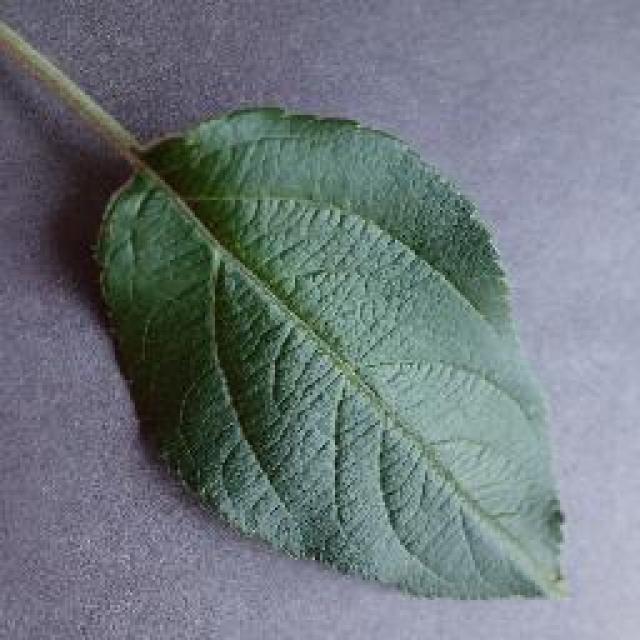apple healthy: (0, 0, 575, 602)
